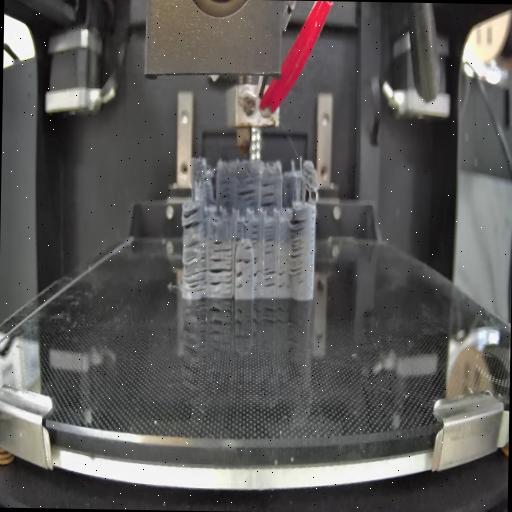cracks: (184, 241, 208, 291), (288, 216, 306, 278), (210, 259, 232, 293), (264, 266, 288, 290), (183, 204, 201, 232), (237, 182, 258, 206), (260, 182, 278, 209), (216, 178, 233, 206), (264, 225, 276, 258), (212, 238, 233, 254), (252, 256, 260, 288), (236, 256, 252, 267), (252, 223, 259, 247), (235, 272, 244, 290), (236, 222, 242, 240), (245, 244, 252, 254)
